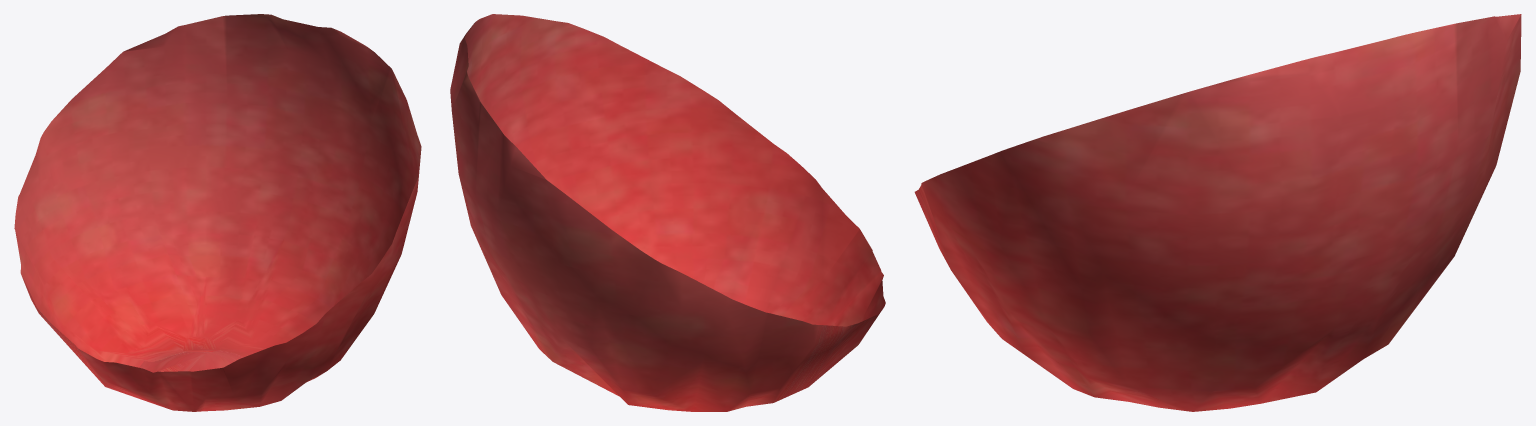
File: appeltjeOnderkant.obj
3 renders of one model, left to right at view 1: azimuth 30°, elevation 25°; view 2: azimuth 150°, elevation 25°; view 3: azimuth 270°, elevation 25°, orthographic. The views are drawn at different scales.
Parts seen in each view (by area): view 1: Apple.001; view 2: Apple.001; view 3: Apple.001.
Part boxes in pixels (<box>): Apple.001: <box>14,14,421,411</box>; Apple.001: <box>450,14,885,411</box>; Apple.001: <box>914,14,1521,411</box>.
Size of the model in its own units: 1.1 by 0.8692 by 1.15.
1 material, 1 textured.
